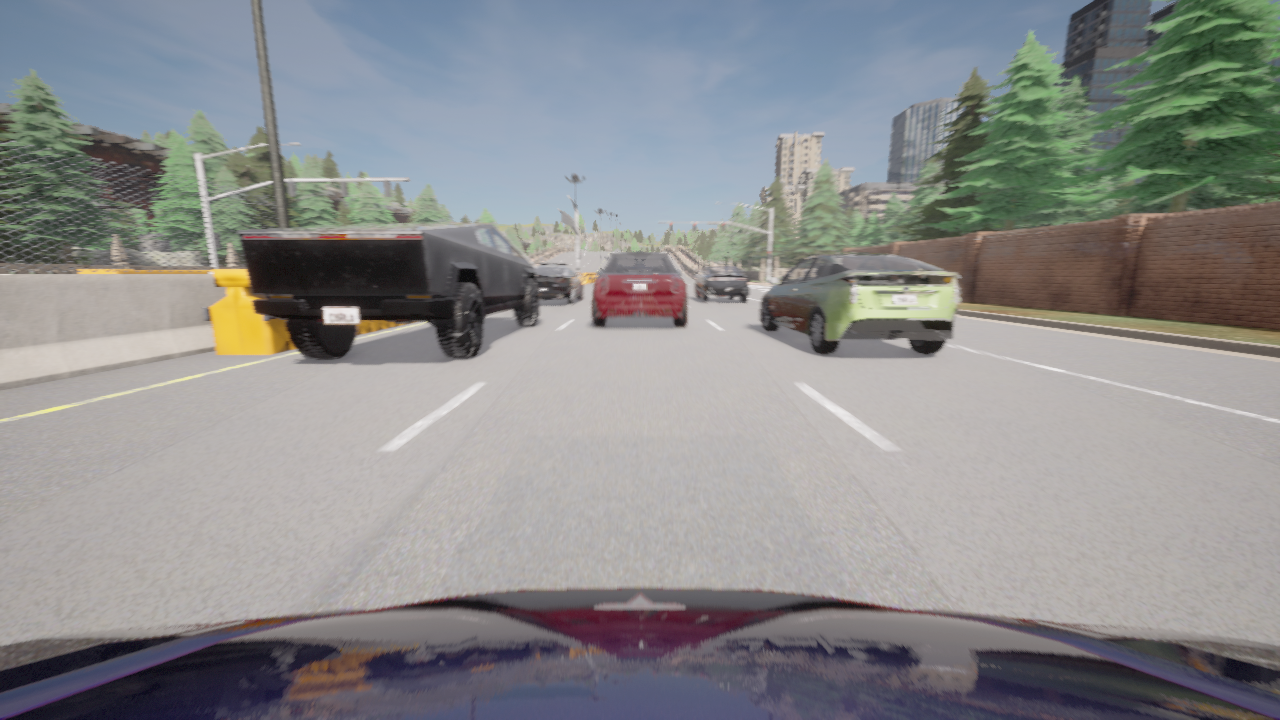cyclist: (0, 588, 1279, 719), (238, 224, 539, 358), (760, 253, 959, 354), (592, 251, 687, 326), (535, 262, 582, 304), (694, 266, 748, 302)
